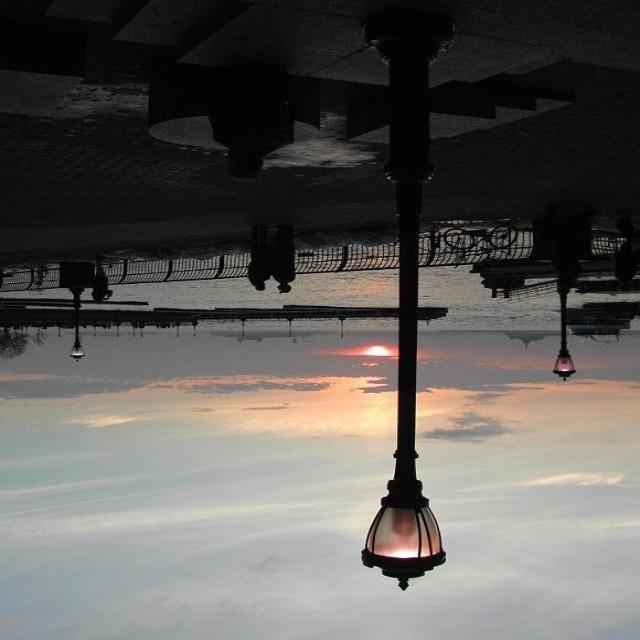on: (340, 465, 474, 590)
